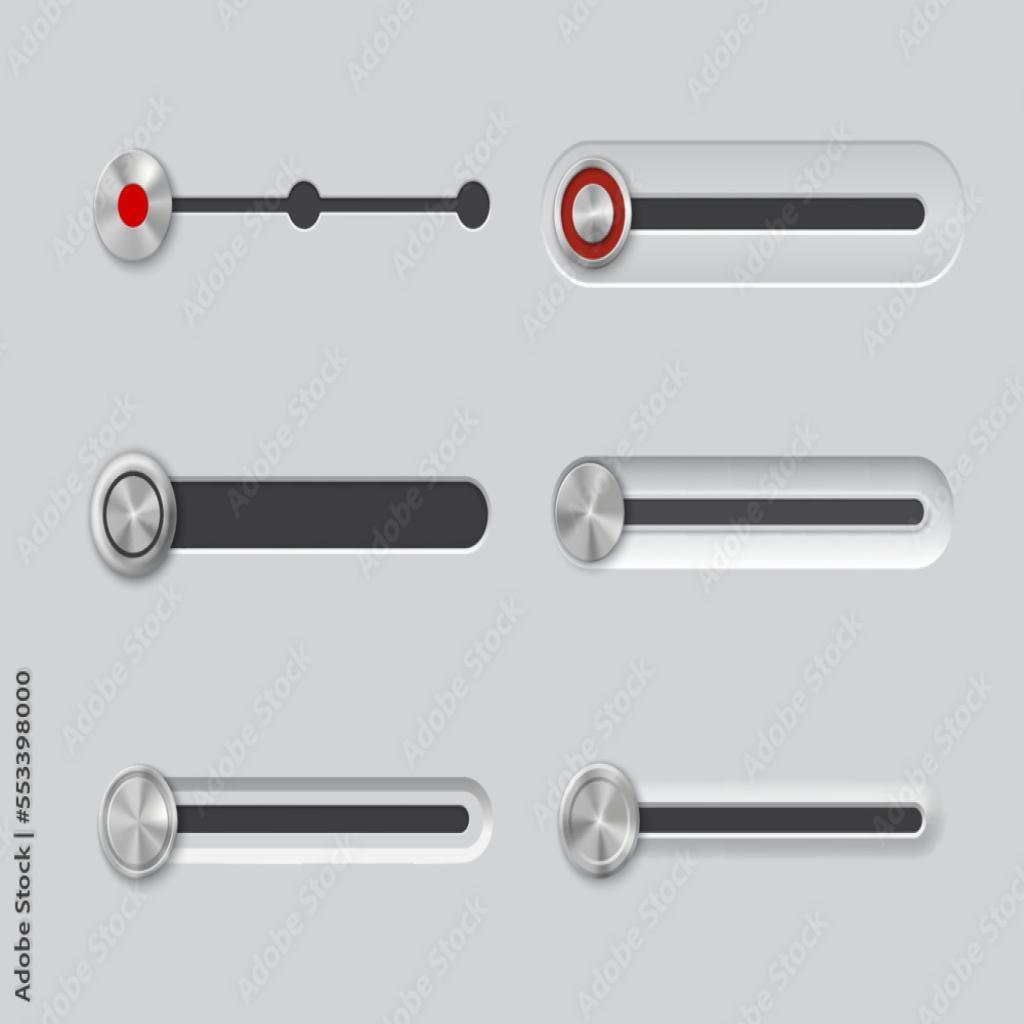slider: (541, 130, 977, 296), (81, 436, 498, 594), (551, 434, 961, 584), (95, 755, 509, 903), (78, 131, 498, 272), (547, 753, 935, 893)
